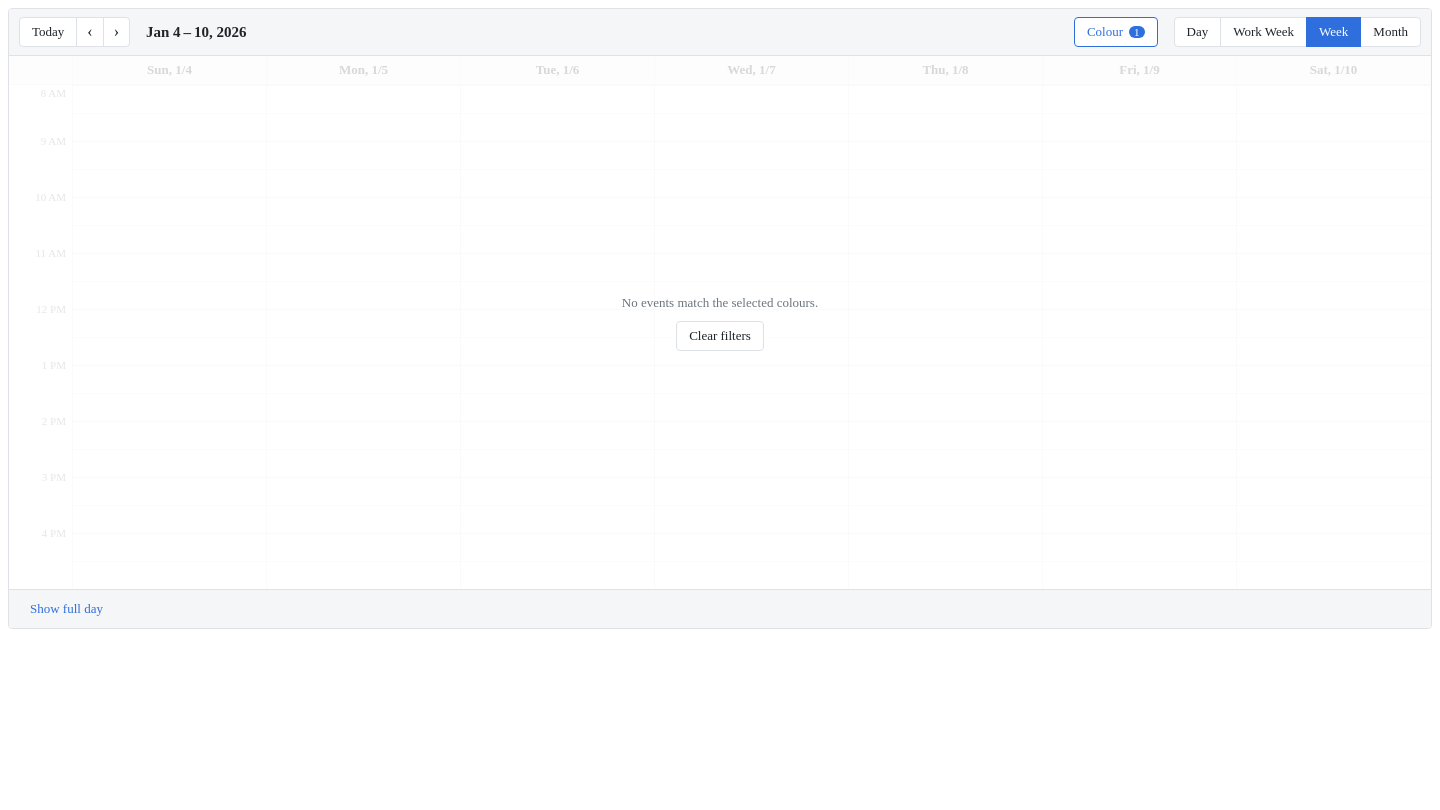
Test case: filtering › shows an empty state with a way out when the filters hide everything
The image size is (1440, 810).
Expected: the text "No events match the selected colours." is shown, [622,295,818,311]
Expected: the text "Azure appointment" is not shown
Click the button "Clear filters".
click(720, 336)  # box [676,321,764,351]
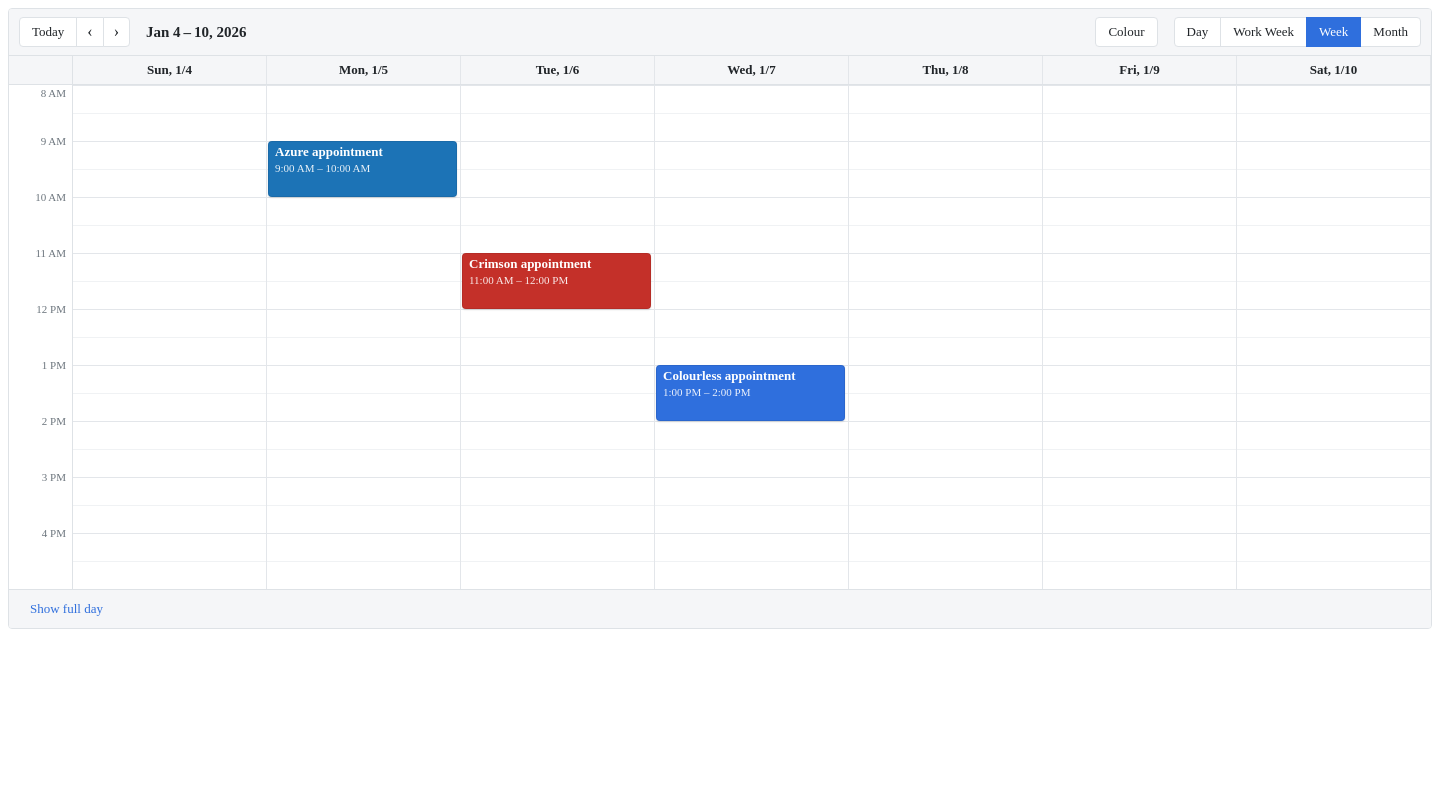
Expected: the text "No events match the selected colours." is gone
Expected: the text "Azure appointment" is shown, [275,144,383,159]
